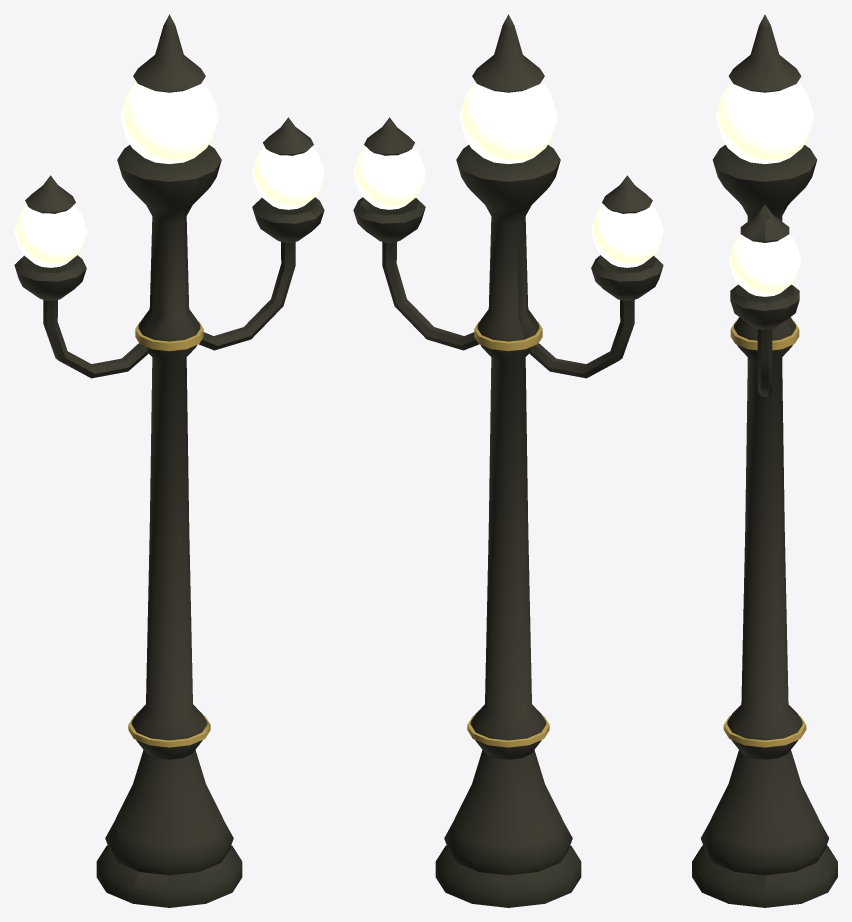
Rendered from lamp.glb.
3 views of the same model, side by side, from view 1: azimuth 30°, elevation 25°; view 2: azimuth 150°, elevation 25°; view 3: azimuth 270°, elevation 25° (orthographic).
Visible parts, largest first — view 1: lamp_post, lamp_bulbs; view 2: lamp_post, lamp_bulbs; view 3: lamp_post, lamp_bulbs.
Boxes of the visible parts, x1,y1,x2,y2 form: lamp_post: [14, 14, 324, 907]; lamp_bulbs: [14, 82, 324, 267]; lamp_post: [353, 14, 663, 907]; lamp_bulbs: [353, 82, 663, 267]; lamp_post: [692, 14, 837, 907]; lamp_bulbs: [715, 82, 814, 296].
Size of the model in its own units: 0.81 by 2.22 by 0.34.
